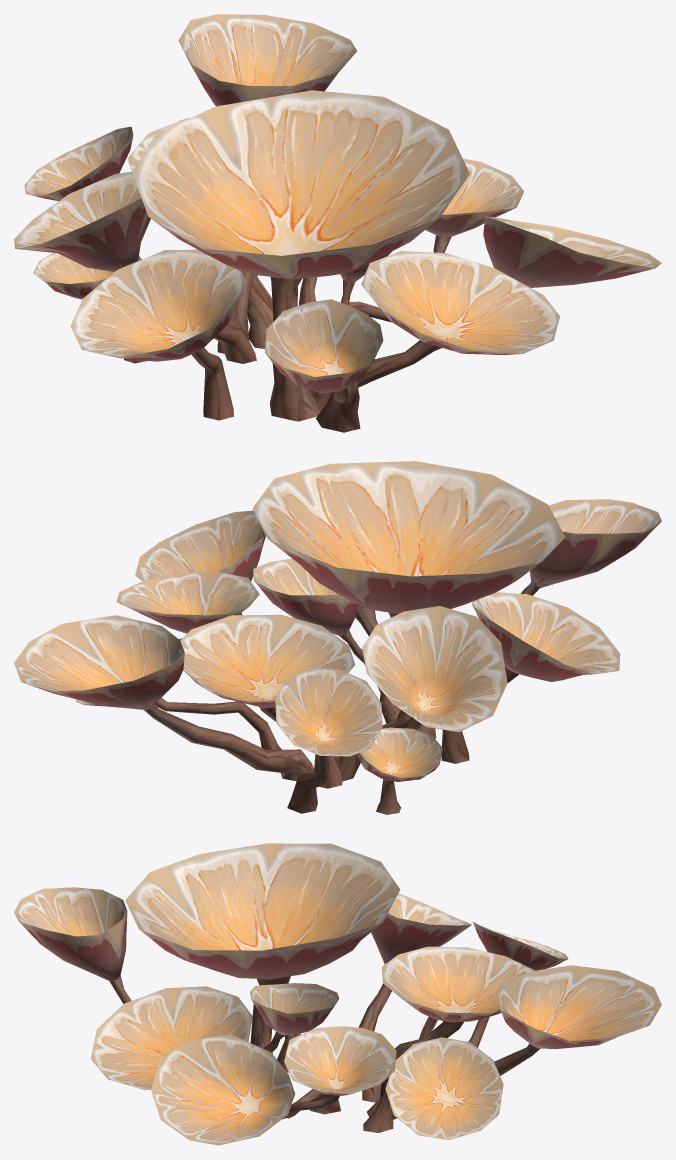
The model's file is Homeworld_Exterior_Xm_Plant_Grass_Desert_04_Lod0.fbx.
The picture shows the model from 3 angles, top to bottom: view 1: azimuth 30°, elevation 25°; view 2: azimuth 150°, elevation 25°; view 3: azimuth 270°, elevation 25°; orthographic projection. The views are drawn at different scales.
Visible parts, largest first — view 1: Area_Xm_Grass_CWSM_Hwh_04_01_Lod0, Area_Xm_Grass_CWSM_Hwh_04_02_Lod0; view 2: Area_Xm_Grass_CWSM_Hwh_04_01_Lod0, Area_Xm_Grass_CWSM_Hwh_04_02_Lod0; view 3: Area_Xm_Grass_CWSM_Hwh_04_01_Lod0, Area_Xm_Grass_CWSM_Hwh_04_02_Lod0.
Boxes of the visible parts, x1,y1,x2,y2 form: Area_Xm_Grass_CWSM_Hwh_04_01_Lod0: (14, 14, 661, 376); Area_Xm_Grass_CWSM_Hwh_04_02_Lod0: (16, 41, 654, 432); Area_Xm_Grass_CWSM_Hwh_04_01_Lod0: (14, 461, 661, 777); Area_Xm_Grass_CWSM_Hwh_04_02_Lod0: (24, 522, 660, 814); Area_Xm_Grass_CWSM_Hwh_04_01_Lod0: (14, 843, 661, 1145); Area_Xm_Grass_CWSM_Hwh_04_02_Lod0: (19, 912, 618, 1132).
Bounding box in the file's own units: 3.34 × 1.45 × 4.09.
